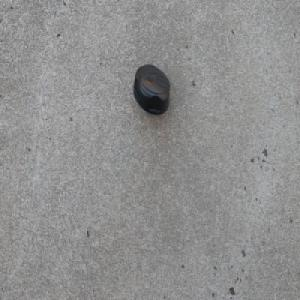FuelCap: (132, 63, 170, 119)
